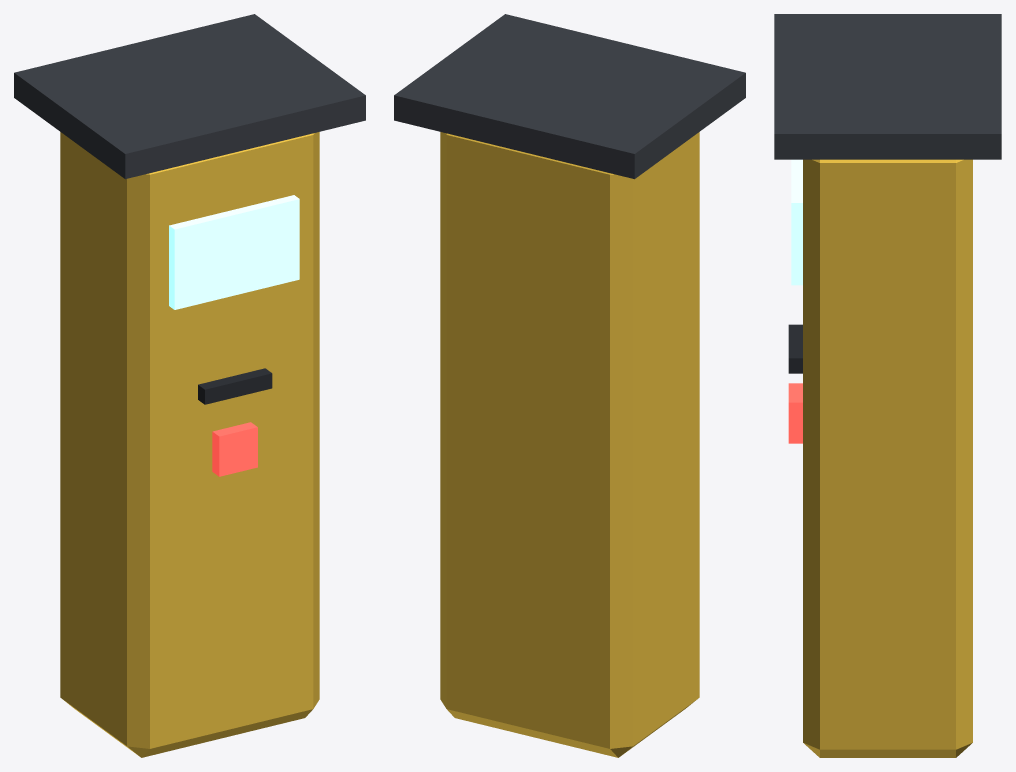
File: ticket_machine.glb
3 renders of one model, left to right at view 1: azimuth 30°, elevation 25°; view 2: azimuth 150°, elevation 25°; view 3: azimuth 270°, elevation 25°, orthographic. The views are drawn at different scales.
Parts seen in each view (by area): view 1: ticket_machine_mesh; view 2: ticket_machine_mesh; view 3: ticket_machine_mesh.
Boxes of the visible parts, left/top/right/bottom form: ticket_machine_mesh: left=14, top=14, right=365, bottom=757; ticket_machine_mesh: left=394, top=14, right=745, bottom=757; ticket_machine_mesh: left=774, top=14, right=1001, bottom=757.
Size of the model in its own units: 0.5 by 1.25 by 0.4.
